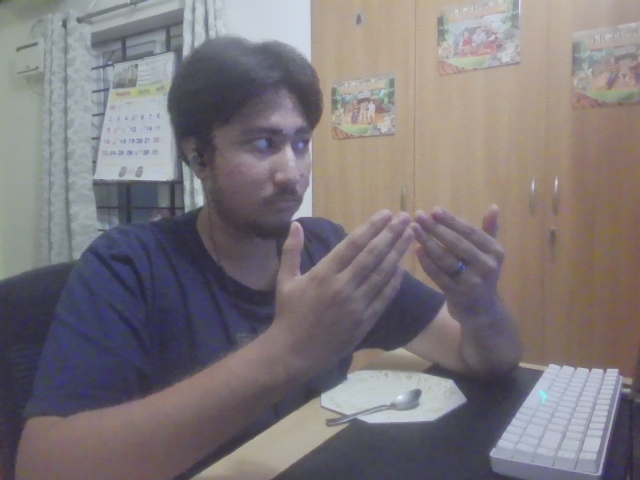thankyou: (272, 204, 509, 362)
